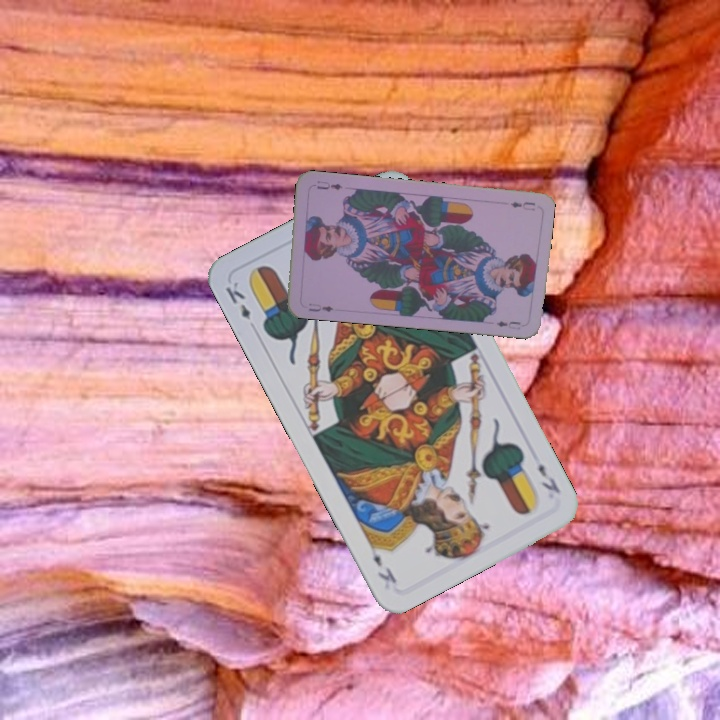EK: (221, 277, 254, 323), (534, 459, 563, 496)
EU: (506, 197, 538, 213), (305, 299, 336, 314)
